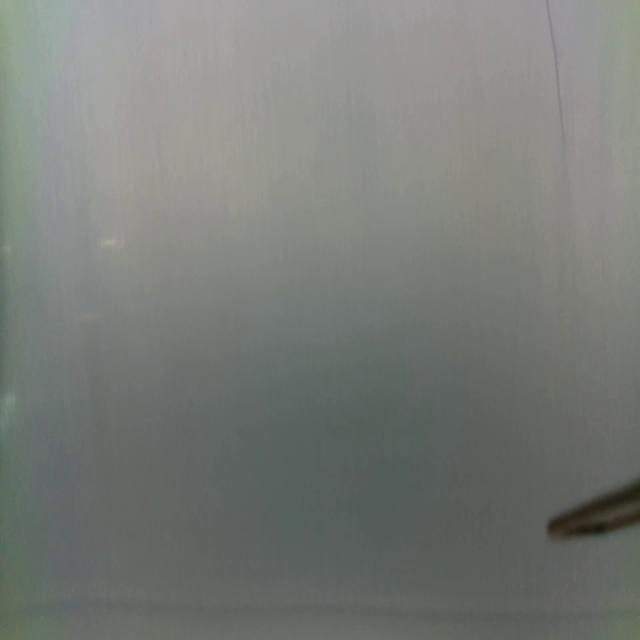color bleeding: (4, 586, 640, 640)
crease: (546, 0, 567, 156)
